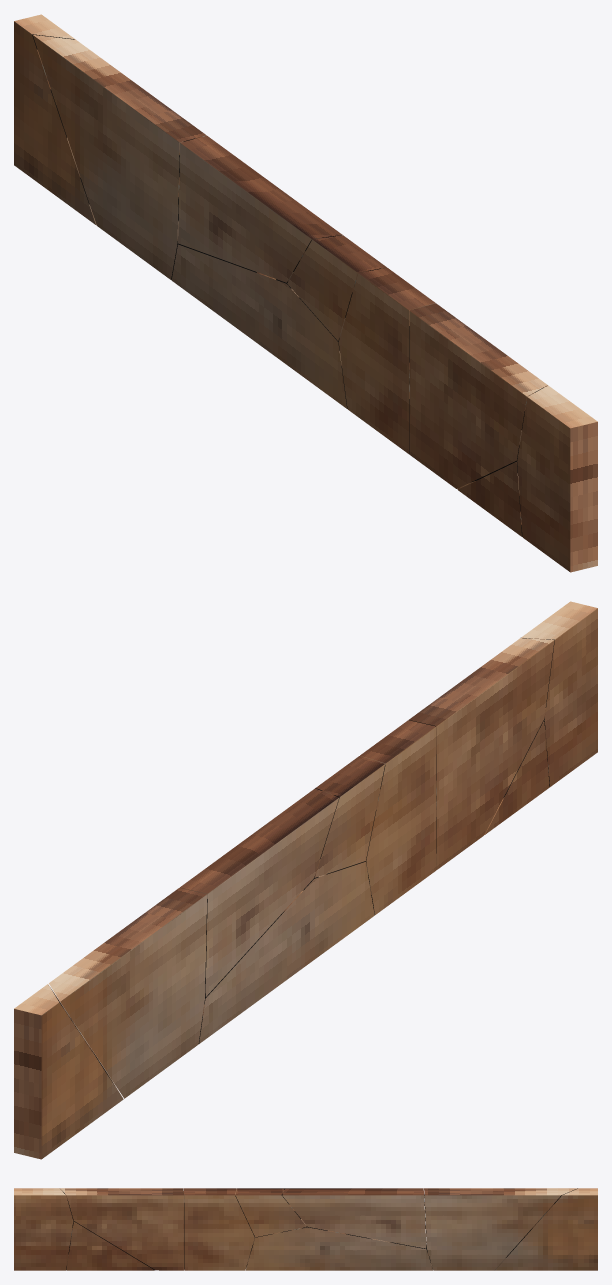
The model's file is plank3.glb.
3 views of the same model, one above another, from view 1: azimuth 30°, elevation 25°; view 2: azimuth 150°, elevation 25°; view 3: azimuth 270°, elevation 25° (orthographic). The views are drawn at different scales.
Visible parts, largest first — view 1: Cube_cell.011, Cube_cell.009, Cube_cell.015, Cube_cell.017, Cube_cell.016, Cube_cell.013, Cube_cell.012, Cube_cell, Cube_cell.014; view 2: Cube_cell.011, Cube_cell.009, Cube_cell.015, Cube_cell.012, Cube_cell.016, Cube_cell.013, Cube_cell.017, Cube_cell, Cube_cell.014; view 3: Cube_cell.011, Cube_cell.009, Cube_cell.015, Cube_cell.016, Cube_cell.012, Cube_cell.013, Cube_cell.017, Cube_cell, Cube_cell.014.
Boxes of the visible parts, box(x1,y1,x2,y2) form: Cube_cell.011: box(33, 35, 206, 279); Cube_cell.009: box(409, 303, 547, 488); Cube_cell.015: box(178, 135, 342, 282); Cube_cell.017: box(517, 385, 597, 572); Cube_cell.016: box(171, 244, 347, 408); Cube_cell.013: box(338, 267, 435, 453); Cube_cell.012: box(14, 14, 96, 225); Cube_cell: box(287, 235, 386, 341); Cube_cell.014: box(457, 460, 522, 536); Cube_cell.011: box(49, 888, 207, 1098); Cube_cell.009: box(409, 638, 554, 869); Cube_cell.015: box(179, 788, 339, 997); Cube_cell.012: box(14, 984, 123, 1159); Cube_cell.016: box(198, 861, 374, 1043); Cube_cell.013: box(360, 720, 436, 914); Cube_cell.017: box(521, 601, 597, 786); Cube_cell: box(314, 756, 385, 877); Cube_cell.014: box(484, 720, 549, 834); Cube_cell.011: box(424, 1188, 577, 1270); Cube_cell.009: box(60, 1188, 183, 1270); Cube_cell.015: box(282, 1188, 426, 1248); Cube_cell.016: box(245, 1227, 433, 1270); Cube_cell.012: box(495, 1188, 597, 1270); Cube_cell.013: box(183, 1188, 255, 1270); Cube_cell.017: box(14, 1188, 73, 1270); Cube_cell: box(235, 1188, 307, 1237); Cube_cell.014: box(66, 1221, 154, 1270).
Size of the model in its own units: 0.08 by 0.4 by 2.8.
1 material, 1 textured.
